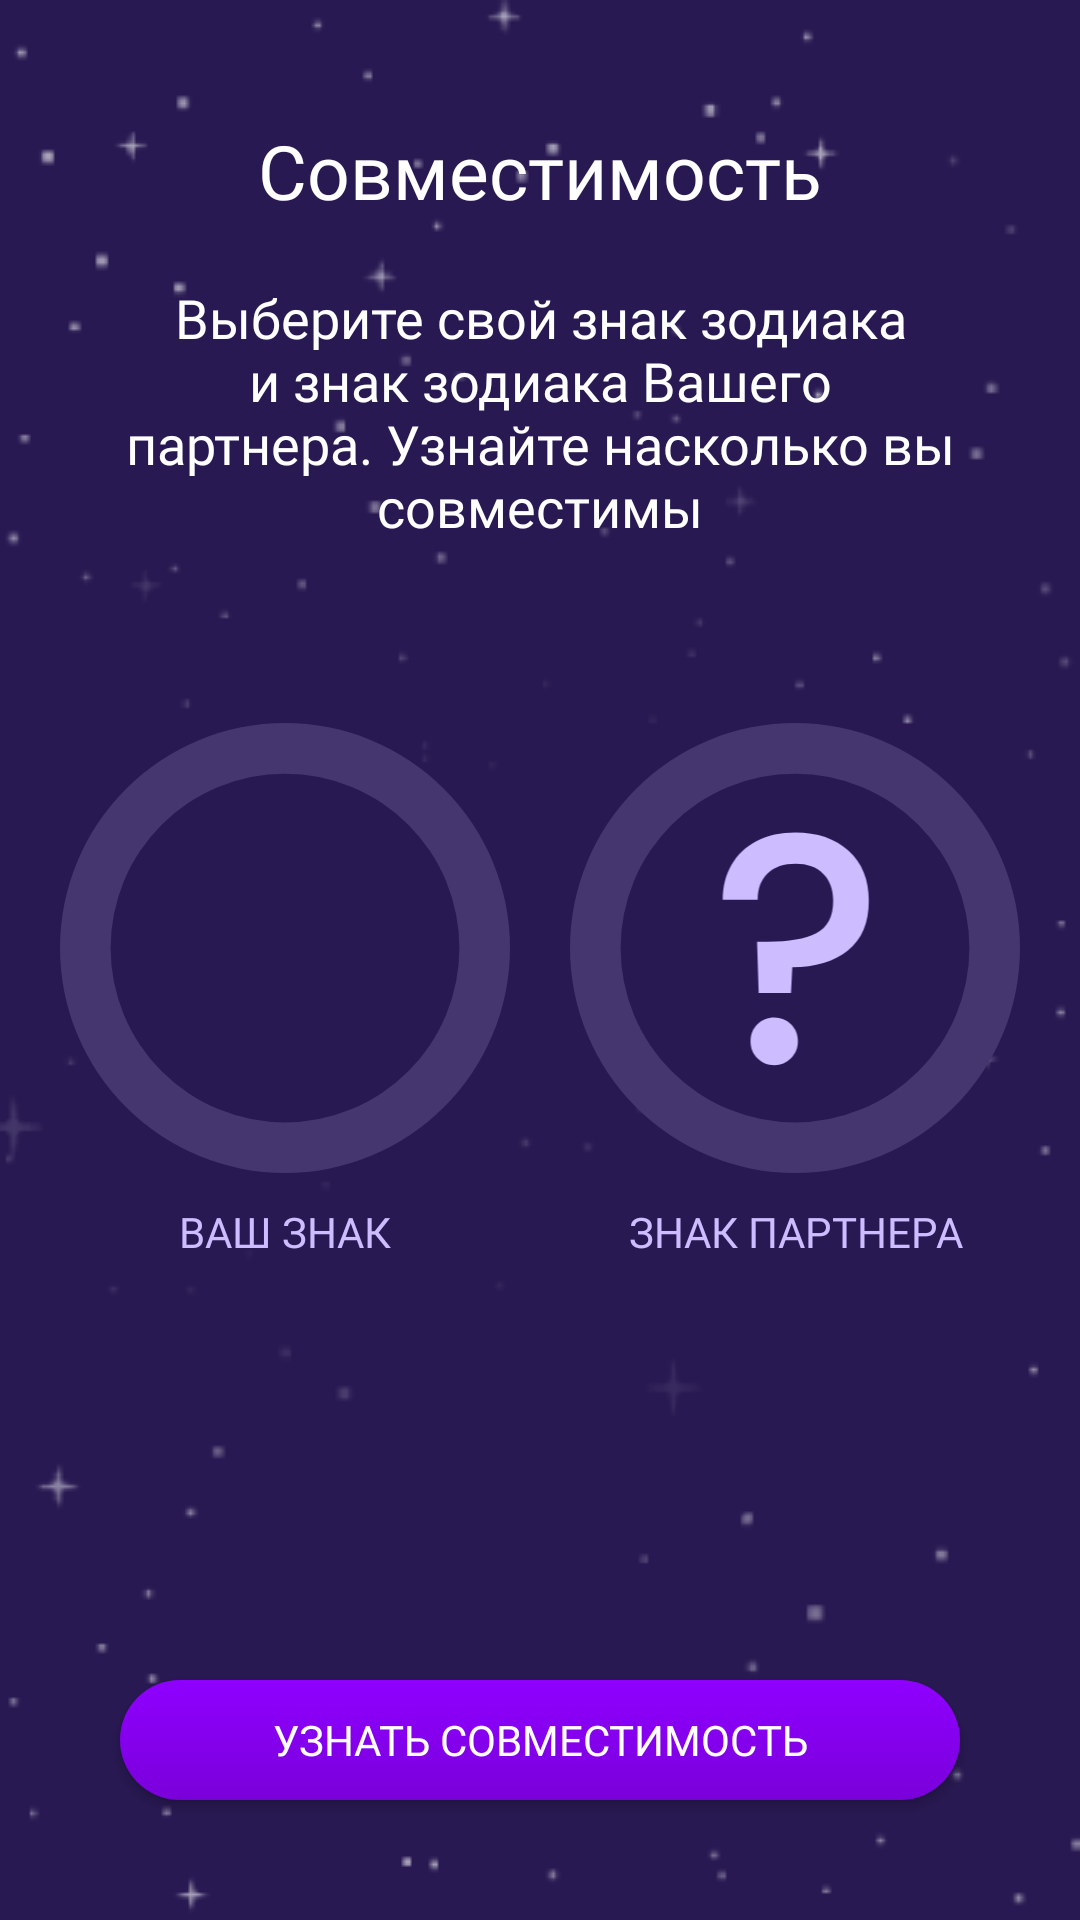

Icons on this 1080w x 1920h Android screen, each with the point to tap as point (x, y):
uknown: point (795, 949)
